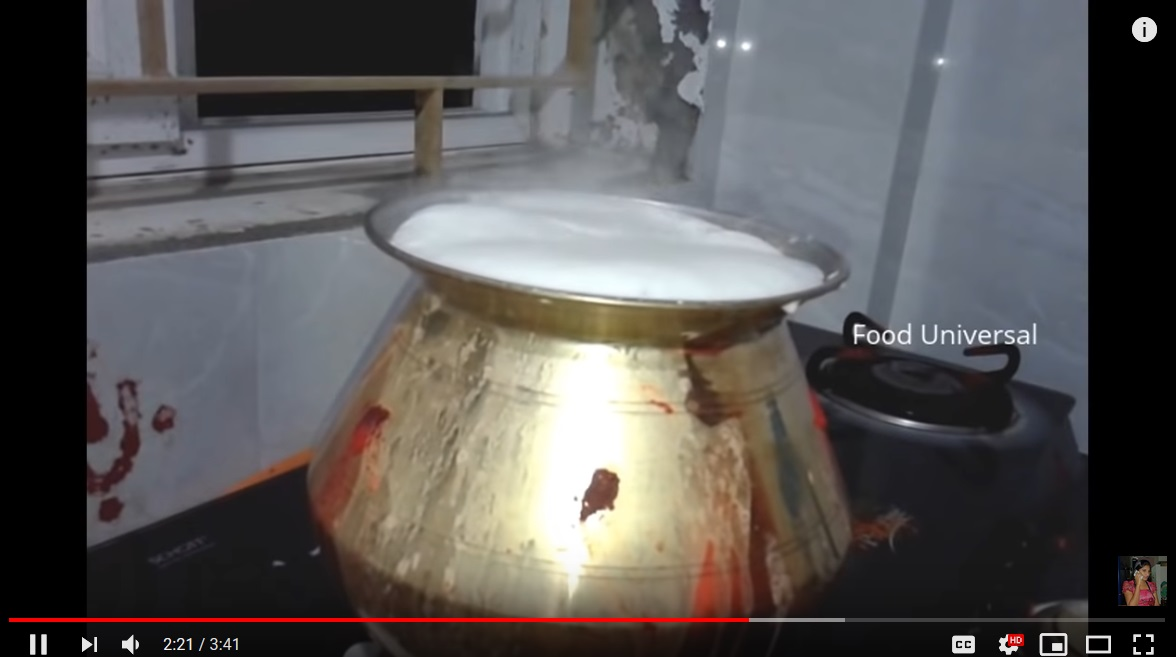Boiled: (358, 164, 862, 490)
